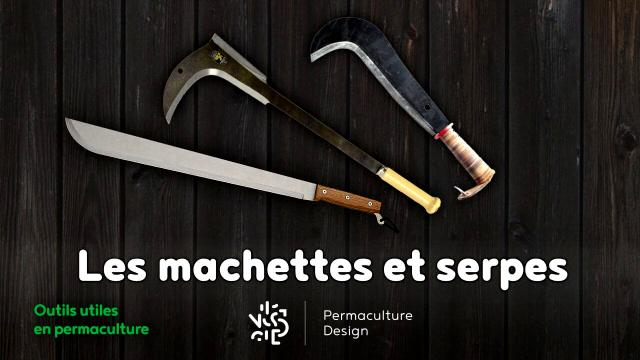long knife: (61, 114, 393, 250)
